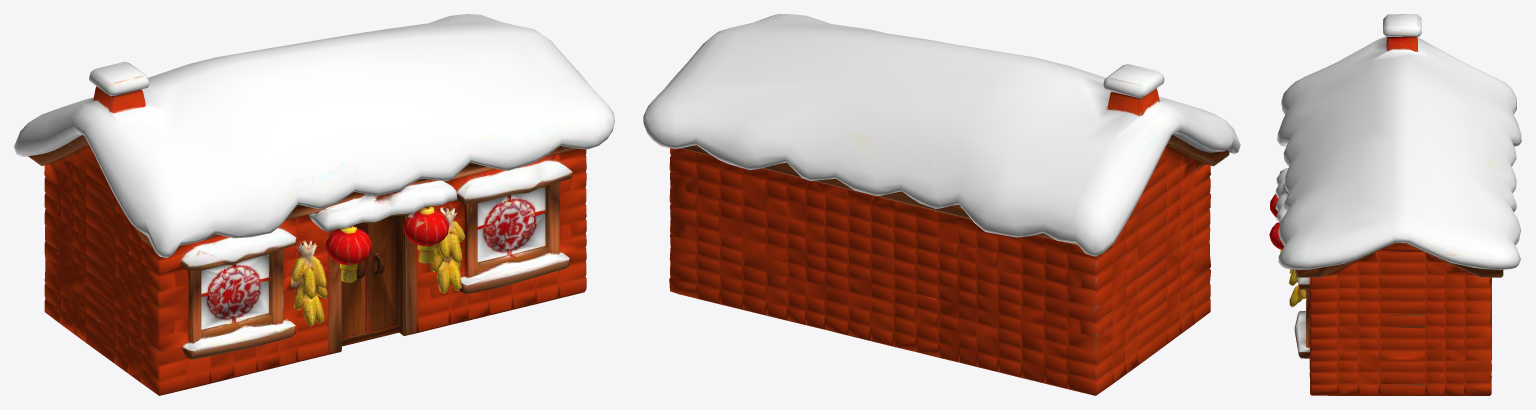
File: cottage.glb
3 views of the same model, side by side, from view 1: azimuth 30°, elevation 25°; view 2: azimuth 150°, elevation 25°; view 3: azimuth 270°, elevation 25° (orthographic). The views are drawn at different scales.
Parts seen in each view (by area): view 1: cottage; view 2: cottage; view 3: cottage.
Boxes of the visible parts, bbox=[...] form: cottage: bbox=[14, 14, 614, 395]; cottage: bbox=[643, 14, 1240, 395]; cottage: bbox=[1269, 14, 1521, 395].
Bounding box in the file's own units: 1.78 × 1 × 1.04.
1 material, 1 textured.
